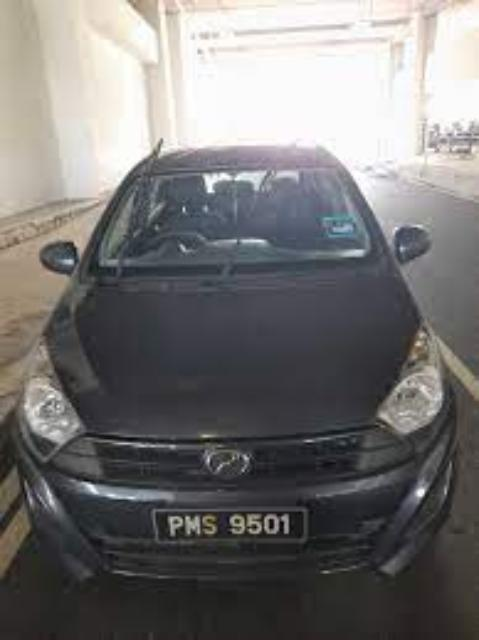License_Plate: (135, 509, 322, 546)
car: (5, 140, 464, 589)
